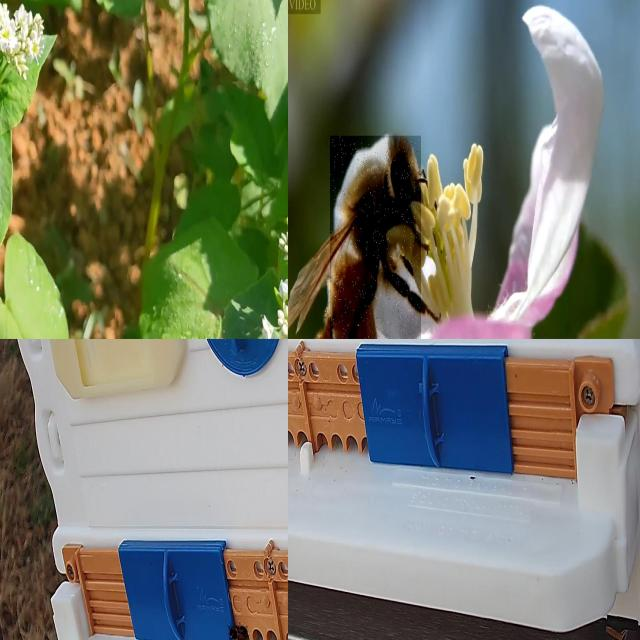honeybee: (288, 130, 430, 342)
